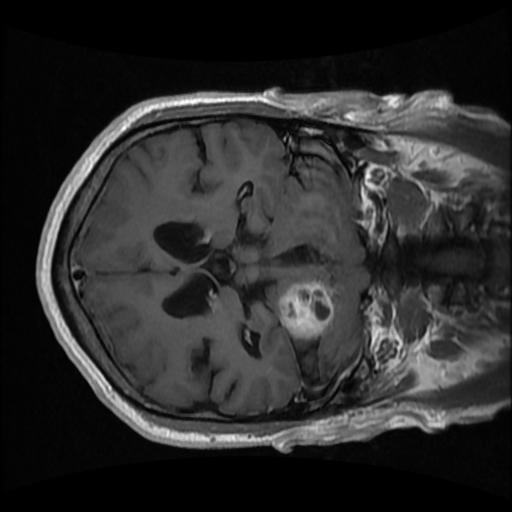meningioma: (277, 282, 335, 341)
